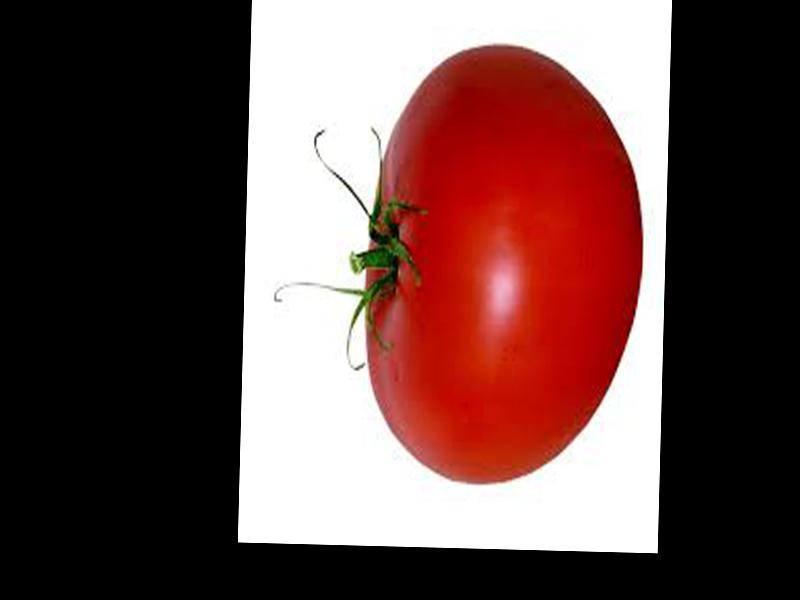Tomato: (360, 45, 646, 484)
